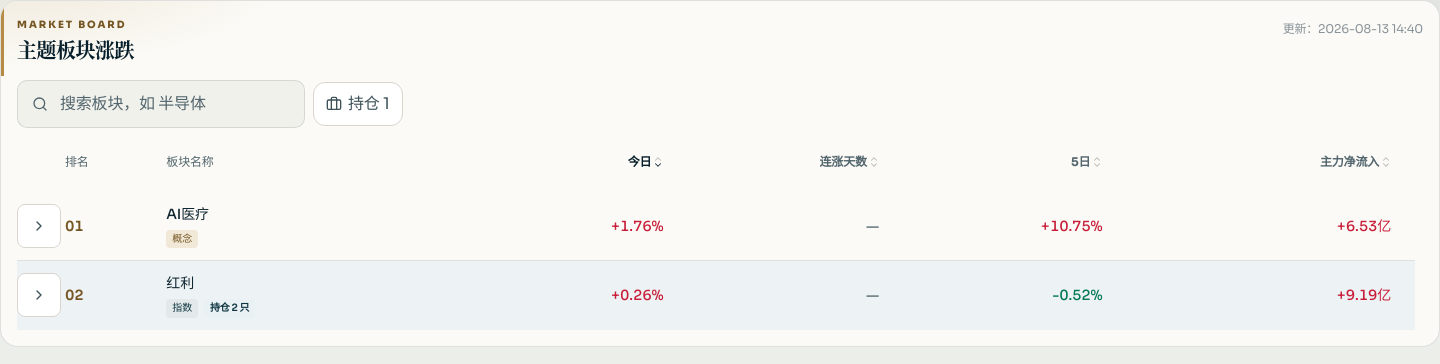
Test: ThemeSectorOverview 搜索与持仓快捷入口 › 按名称过滤板块
Type "红利" into the search field named "按名称搜索主题板块" at (175, 104), box [60,82,290,126]
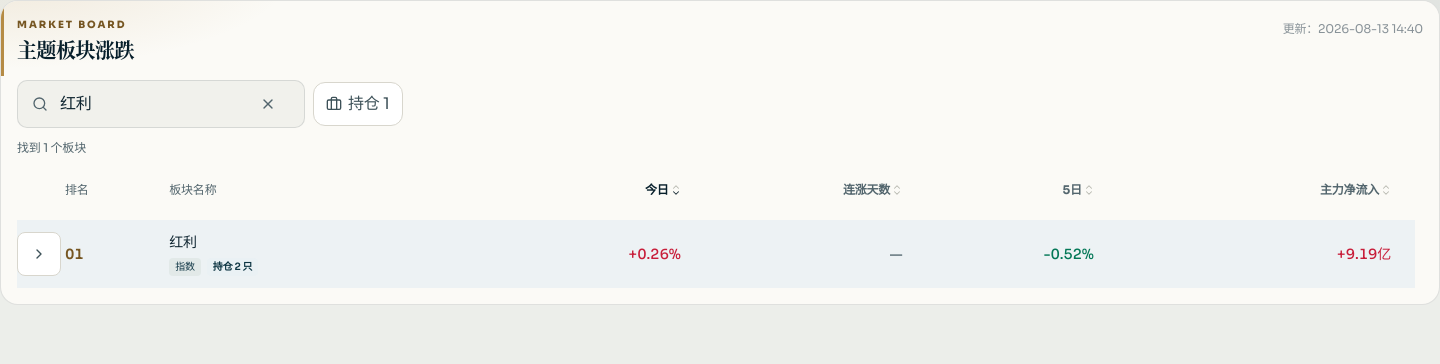
Expected: the text "红利" is shown, [169,233,197,251]
Result: the text "AI医疗" is gone
Result: the text "找到 1 个板块" is shown at [17,140,86,155]
